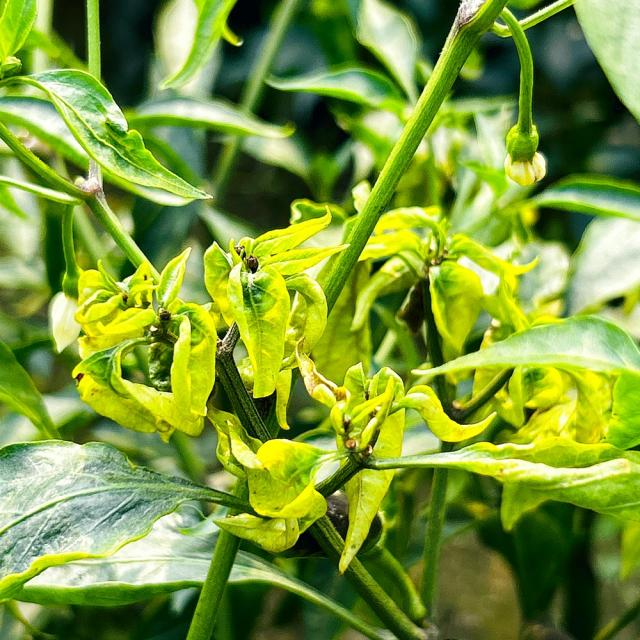Chilli_Leaf_Curl: (1, 1, 638, 636), (1, 437, 388, 637), (314, 0, 508, 319), (2, 66, 214, 207), (70, 245, 218, 442), (202, 205, 350, 400), (208, 405, 332, 554), (408, 313, 639, 385), (496, 4, 547, 187), (572, 0, 639, 123)
